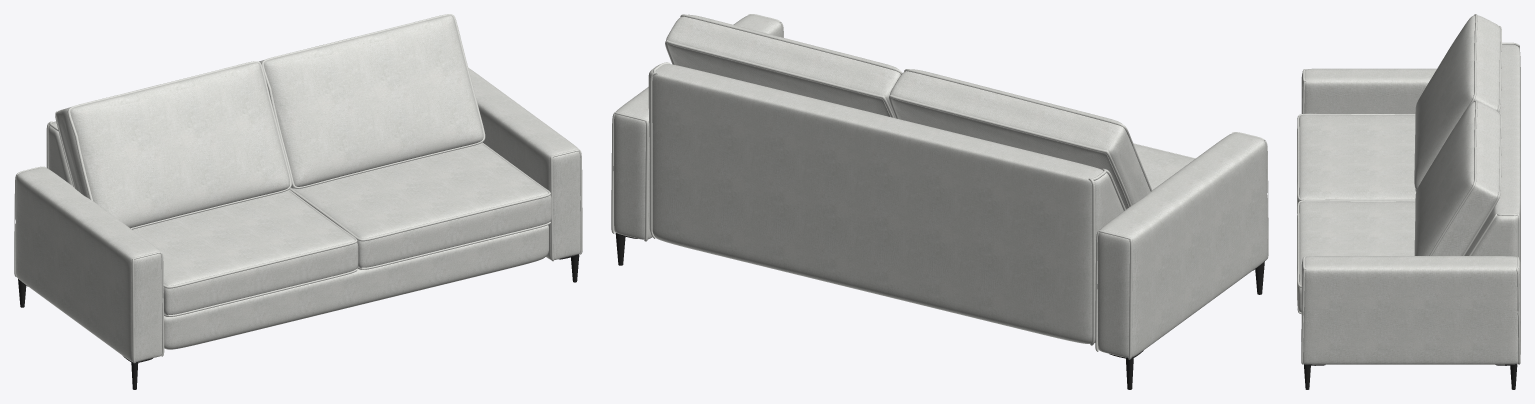
File: 2arm2seats.glb
3 renders of one model, left to right at view 1: azimuth 30°, elevation 25°; view 2: azimuth 150°, elevation 25°; view 3: azimuth 270°, elevation 25°, orthographic. The views are drawn at different scales.
Visible parts, largest first — view 1: object 3, object 6, object 11, object 18, object 24, object 35, object 25, D=0,01 m (×6); view 2: object 35, object 11, object 3, object 6, object 25, D=0,01 m (×6), object 24; view 3: object 25, object 24, object 6, object 3, object 18, object 11, object 35, D=0,01 m (×9).
Boxes of the visible parts, left/top/right/bottom form: object 3: left=56, top=63, right=289, bottom=228; object 6: left=259, top=15, right=483, bottom=188; object 11: left=16, top=167, right=162, bottom=361; object 18: left=292, top=143, right=551, bottom=267; object 24: left=132, top=190, right=358, bottom=314; object 35: left=48, top=121, right=548, bottom=349; object 25: left=468, top=68, right=580, bottom=259; D=0,01 m (×6): left=67, top=14, right=550, bottom=316; object 35: left=648, top=64, right=1123, bottom=343; object 11: left=1097, top=133, right=1267, bottom=357; object 3: left=890, top=69, right=1150, bottom=209; object 6: left=666, top=14, right=900, bottom=118; object 25: left=613, top=15, right=782, bottom=239; D=0,01 m (×6): left=650, top=14, right=1152, bottom=345; object 24: left=1134, top=144, right=1194, bottom=189; object 25: left=1301, top=256, right=1520, bottom=364; object 24: left=1297, top=114, right=1415, bottom=213; object 6: left=1414, top=102, right=1500, bottom=255; object 3: left=1414, top=15, right=1500, bottom=189; object 18: left=1297, top=201, right=1415, bottom=312; object 11: left=1301, top=68, right=1436, bottom=113; object 35: left=1465, top=44, right=1520, bottom=268; D=0,01 m (×9): left=1297, top=14, right=1520, bottom=364.
Bounding box in the file's own units: 2.01 × 0.8905 × 0.9386.
Materials: 2 (1 with a texture image).
